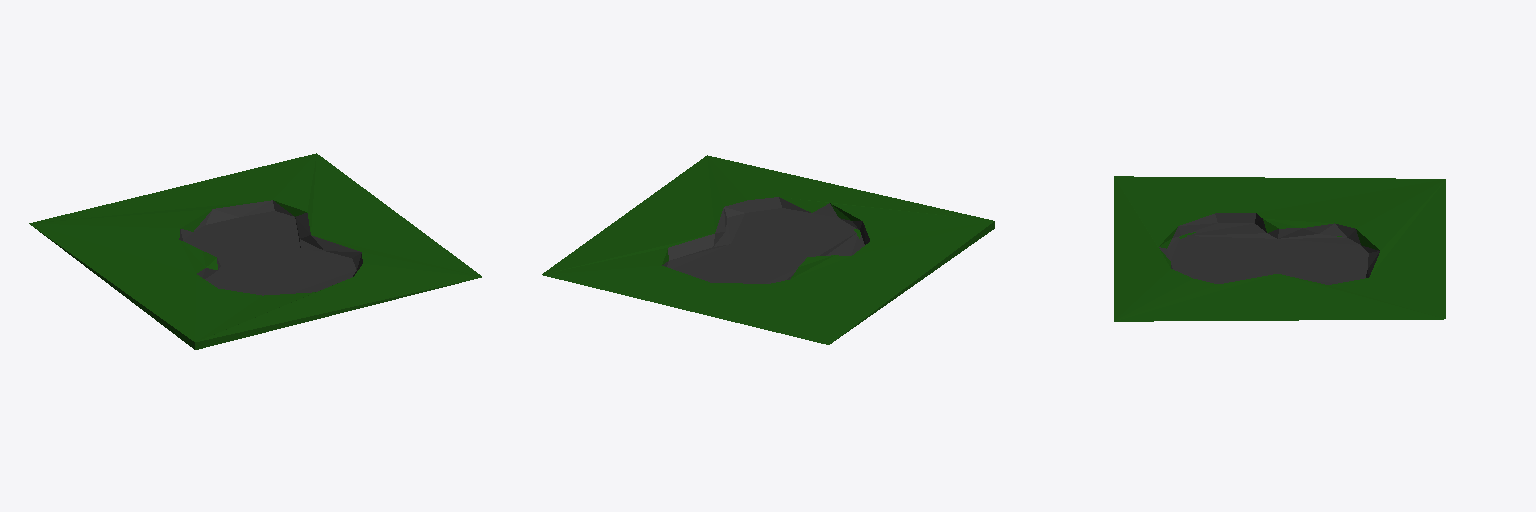
File: LightweightPark.obj
The picture shows the model from 3 angles: view 1: azimuth 30°, elevation 25°; view 2: azimuth 150°, elevation 25°; view 3: azimuth 270°, elevation 25°; orthographic projection.
Visible parts, largest first — view 1: Ground_Grid; view 2: Ground_Grid; view 3: Ground_Grid.
Boxes of the visible parts, x1=… form: Ground_Grid: x1=29, y1=153, x2=481, y2=349; Ground_Grid: x1=542, y1=155, x2=994, y2=344; Ground_Grid: x1=1114, y1=176, x2=1445, y2=321.
Size of the model in its own units: 60 by 3.73 by 60.